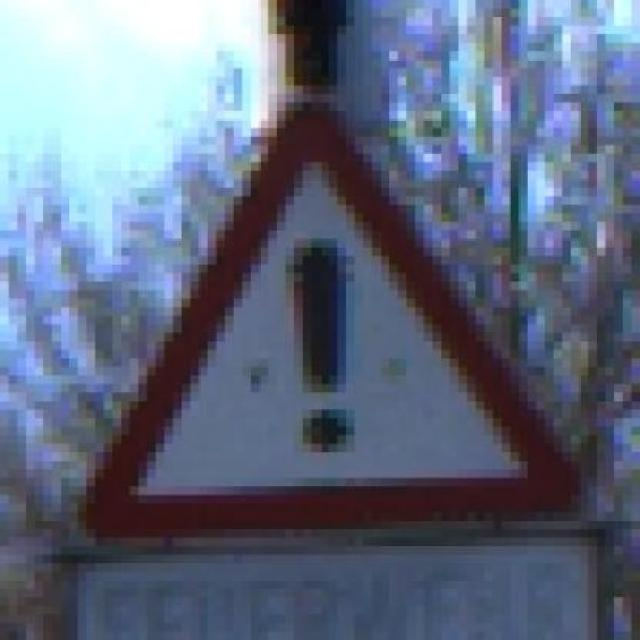Attention Please-: (60, 93, 597, 538)
